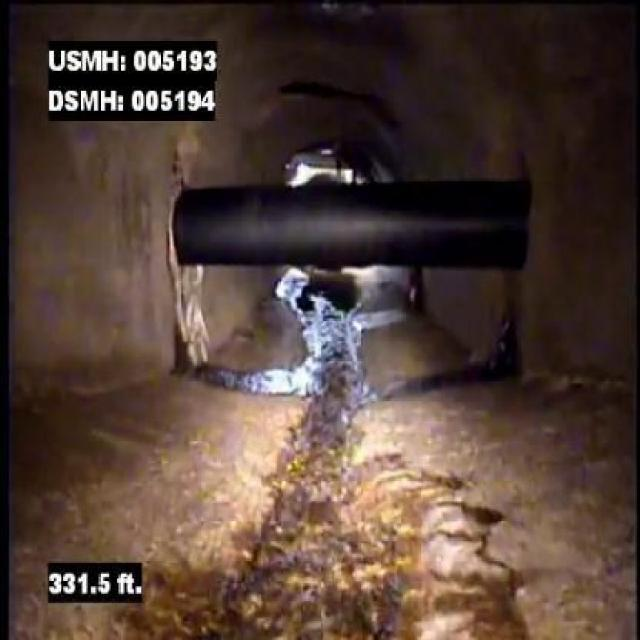Utility intrusion: (168, 174, 535, 274)
